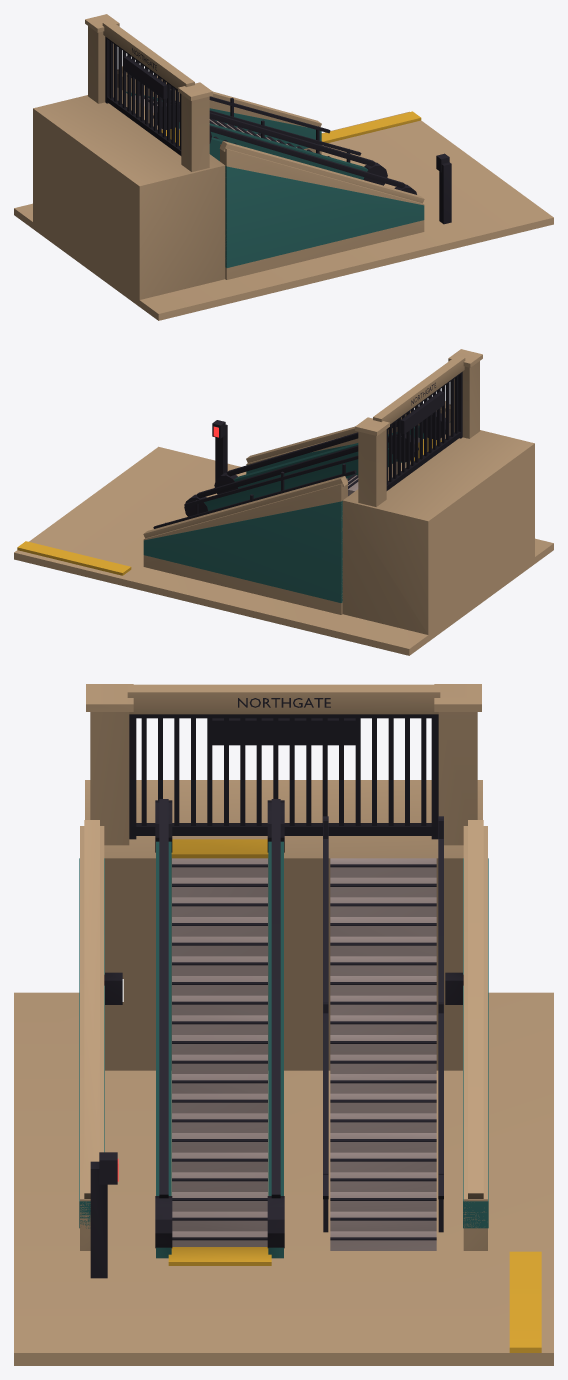
The picture shows the model from 3 angles, top to bottom: view 1: azimuth 30°, elevation 25°; view 2: azimuth 150°, elevation 25°; view 3: azimuth 270°, elevation 25°; orthographic projection. The views are drawn at different scales.
Visible parts, largest first — view 1: body_pal_khakiLight, body_pal_backpackTeal, body_pal_uiDark, exitGate_pal_uiDark, body_pal_schoolBusYellow; view 2: body_pal_khakiLight, body_pal_backpackTeal, body_pal_uiDark, exitGate_pal_uiDark, body_pal_schoolBusYellow; view 3: body_pal_khakiLight, body_pal_sidewalk, body_pal_uiDark, exitGate_pal_uiDark, body_pal_backpackTeal, body_pal_schoolBusYellow.
Part boxes in pixels (<box>): body_pal_khakiLight: <box>14,14,553,320</box>; body_pal_backpackTeal: <box>126,91,424,267</box>; body_pal_uiDark: <box>131,48,451,224</box>; exitGate_pal_uiDark: <box>105,36,181,155</box>; body_pal_schoolBusYellow: <box>161,111,421,145</box>; body_pal_khakiLight: <box>14,349,553,655</box>; body_pal_backpackTeal: <box>143,426,423,602</box>; body_pal_uiDark: <box>153,382,445,528</box>; exitGate_pal_uiDark: <box>386,371,462,490</box>; body_pal_schoolBusYellow: <box>17,438,441,575</box>; body_pal_khakiLight: <box>14,684,553,1365</box>; body_pal_sidewalk: <box>172,858,436,1250</box>; body_pal_uiDark: <box>90,698,463,1278</box>; exitGate_pal_uiDark: <box>129,714,438,839</box>; body_pal_backpackTeal: <box>79,841,488,1258</box>; body_pal_schoolBusYellow: <box>168,839,541,1352</box>.
Bounding box in the file's own units: 12 × 5.81 × 7.6.
